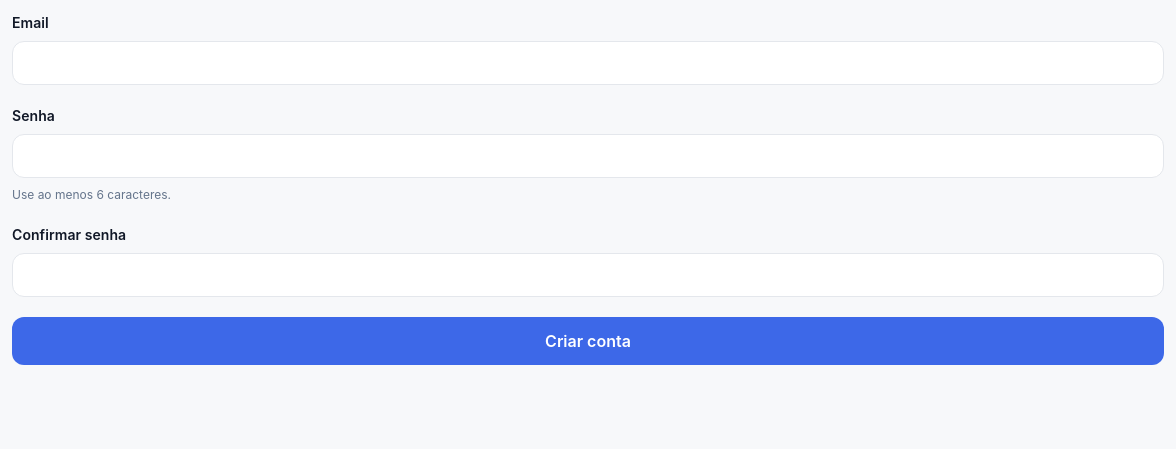
Test: SignUpForm › shows the failure on screen instead of only announcing it
Type "willy@example.com" into the field labelled "Email" at (588, 63), box [12,41,1164,85]
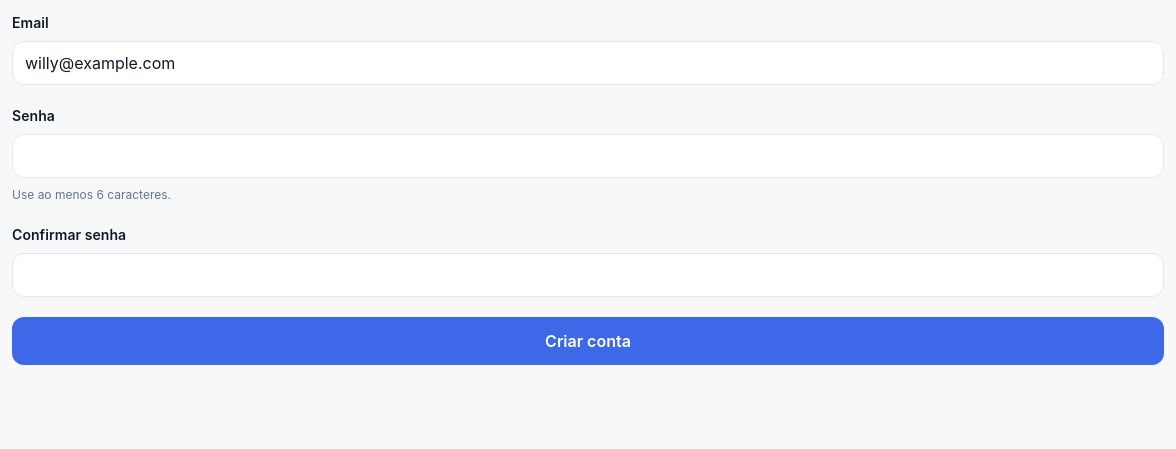
Type "very-secure-password" into the password field labelled "Senha" at (588, 156), box [12,134,1164,178]
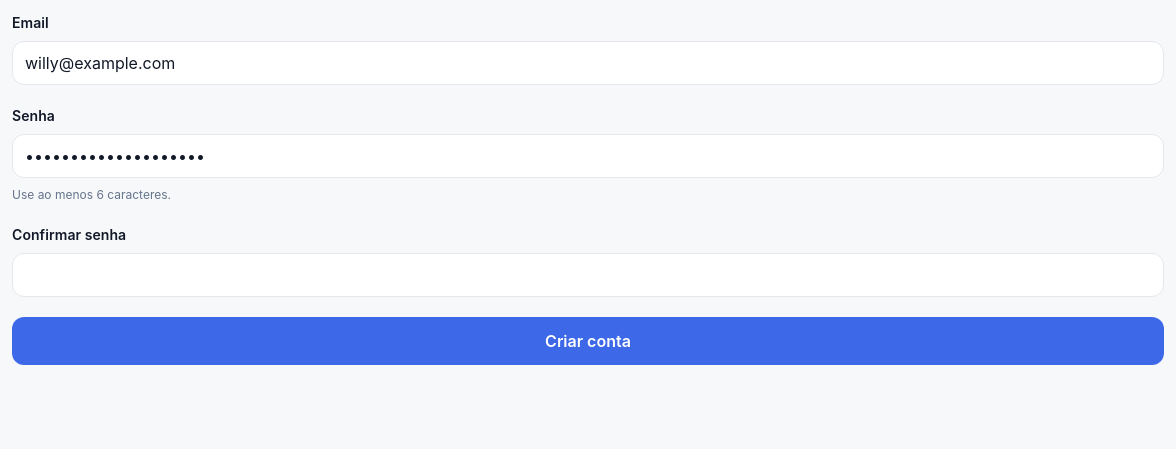
Type "very-secure-password" into the password field labelled "Confirmar senha" at (588, 275), box [12,253,1164,297]
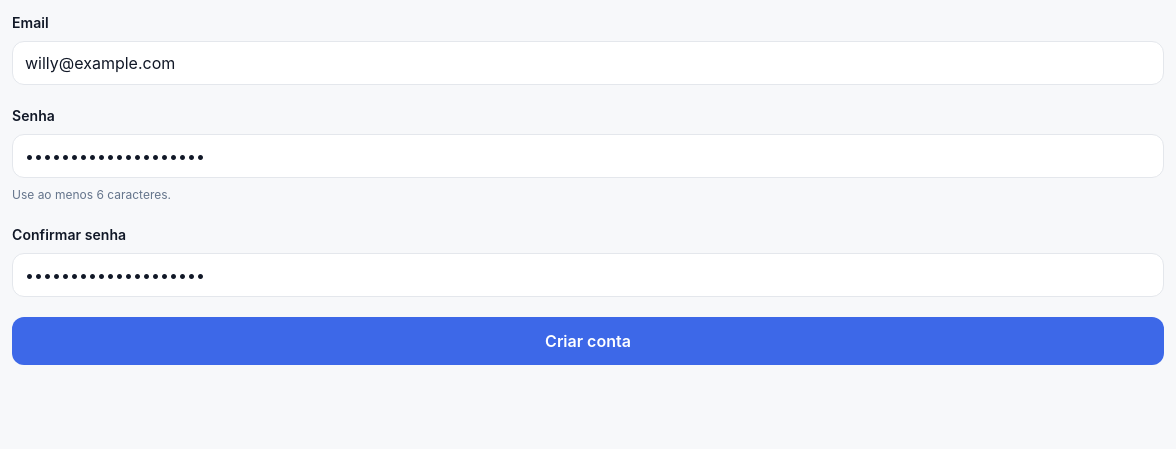
Click the button "Criar conta" at (588, 341), box [12,317,1164,365]
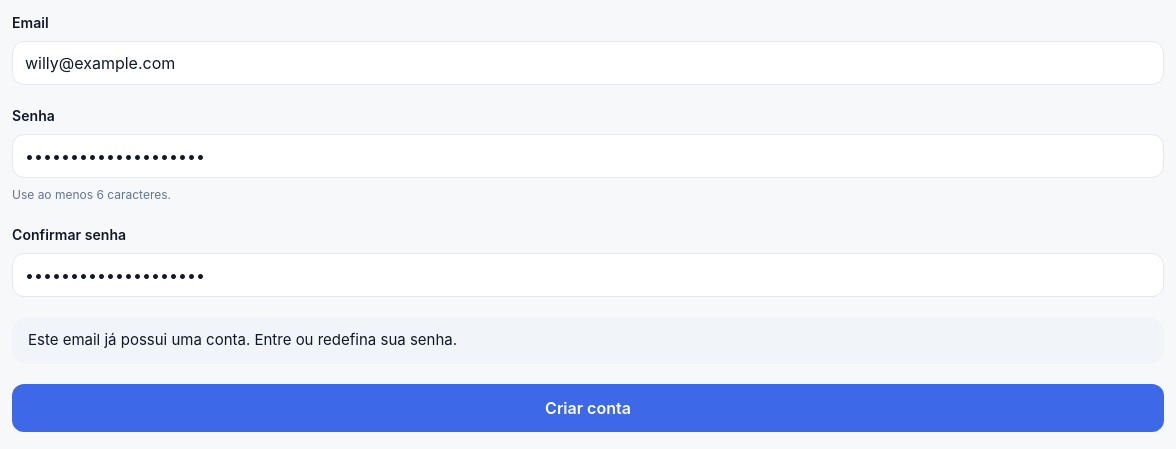
Now the message shows "Este email já possui uma conta.", box [28,330,457,349]
